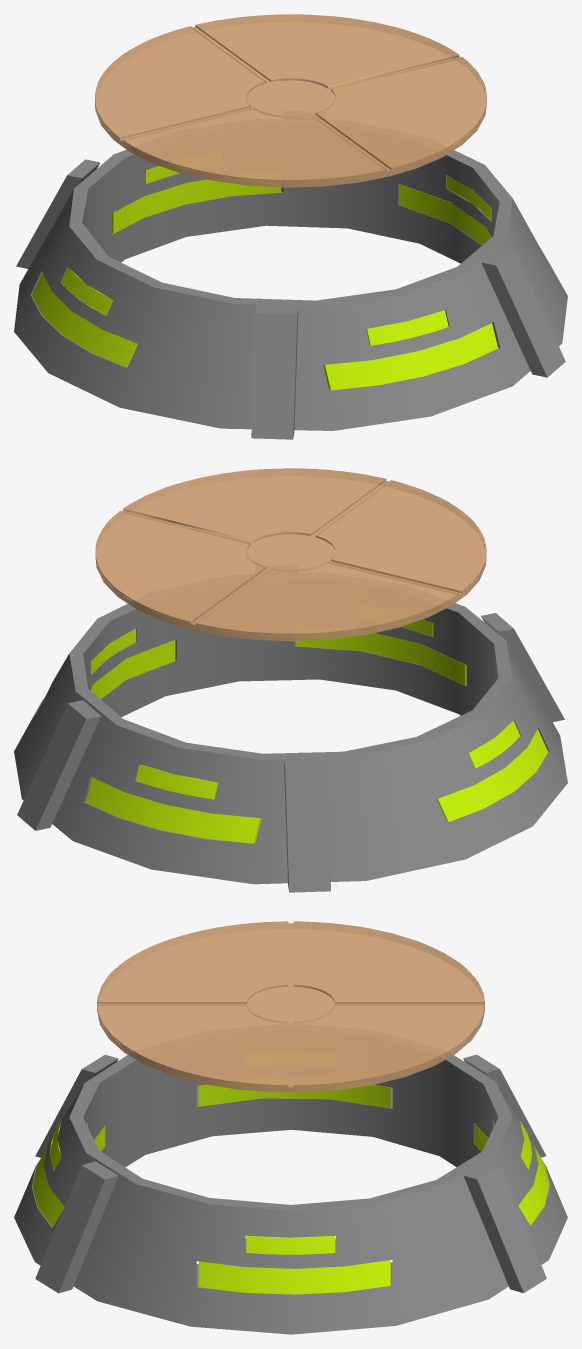
Rendered from goalPlatform.fbx.
3 views of the same model, one above another, from view 1: azimuth 30°, elevation 25°; view 2: azimuth 150°, elevation 25°; view 3: azimuth 270°, elevation 25° (orthographic).
Parts seen in each view (by area): view 1: Base, Platform; view 2: Base, Platform; view 3: Base, Platform.
Boxes of the visible parts, x1=… form: Base: x1=14, y1=150, x2=567, y2=439; Platform: x1=95, y1=14, x2=486, y2=187; Base: x1=14, y1=603, x2=567, y2=892; Platform: x1=95, y1=468, x2=486, y2=641; Base: x1=14, y1=1054, x2=567, y2=1334; Platform: x1=97, y1=921, x2=484, y2=1092.
Size of the model in its own units: 100 by 42.69 by 100.
